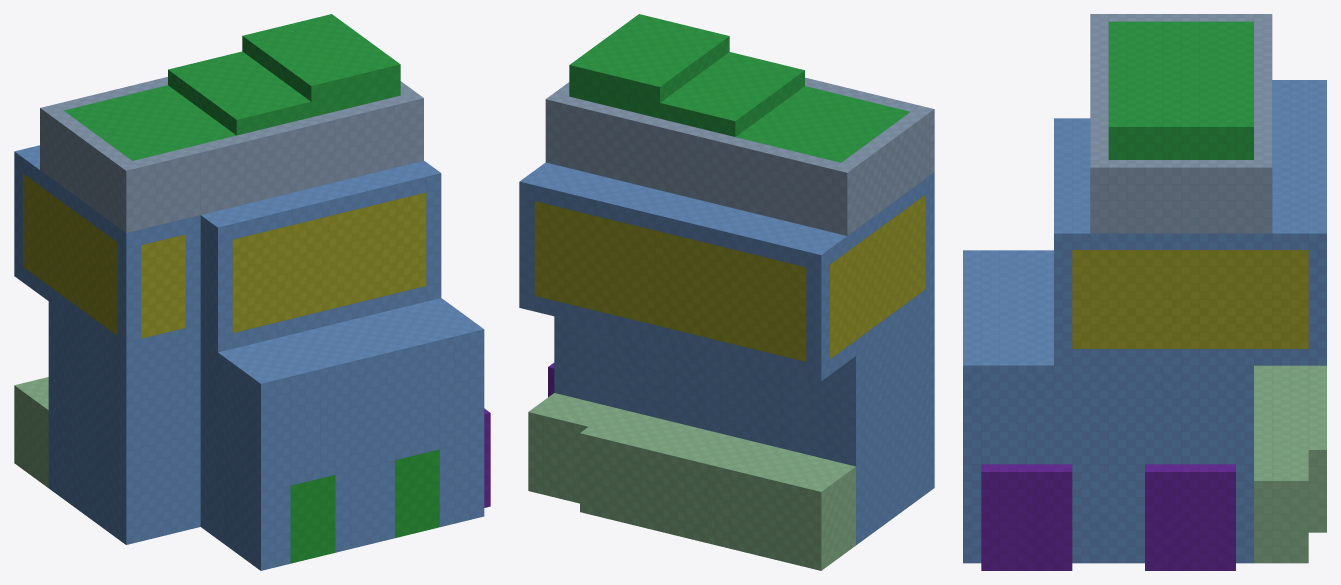
The picture shows the model from 3 angles, left to right: view 1: azimuth 30°, elevation 25°; view 2: azimuth 150°, elevation 25°; view 3: azimuth 270°, elevation 25°; orthographic projection. The views are drawn at different scales.
Parts seen in each view (by area): view 1: _bake; view 2: _bake; view 3: _bake.
Boxes of the visible parts, box(x1,y1,x2,y2) form: _bake: box(14, 14, 490, 570); _bake: box(519, 14, 934, 570); _bake: box(963, 14, 1326, 570).
Size of the model in its own units: 21 by 26 by 20.
1 material, 1 textured.
